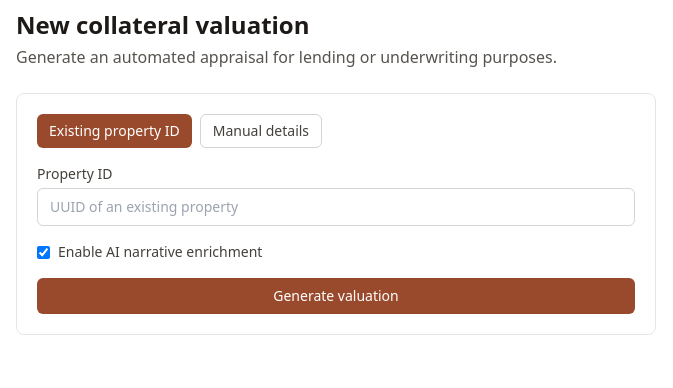
it: NewCollateralValuationPage › defaults to the existing-property-ID mode and requires an ID before submitting
What coordinates should you click on to do the following:
click the button "Generate valuation"
I would click on:
 (336, 296)
Its box is [37,278,635,314].
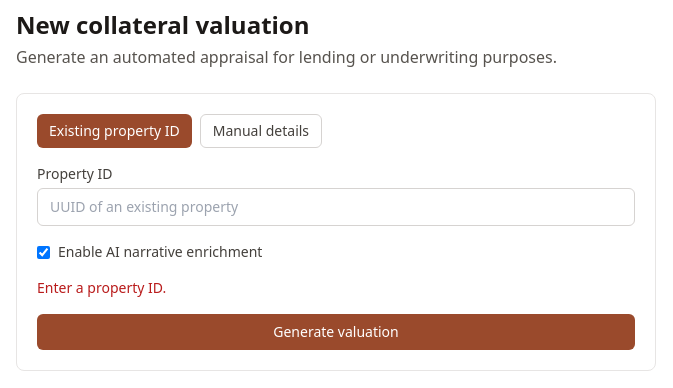
Expected: the message reads "Enter a property ID.", [37,278,166,297]
